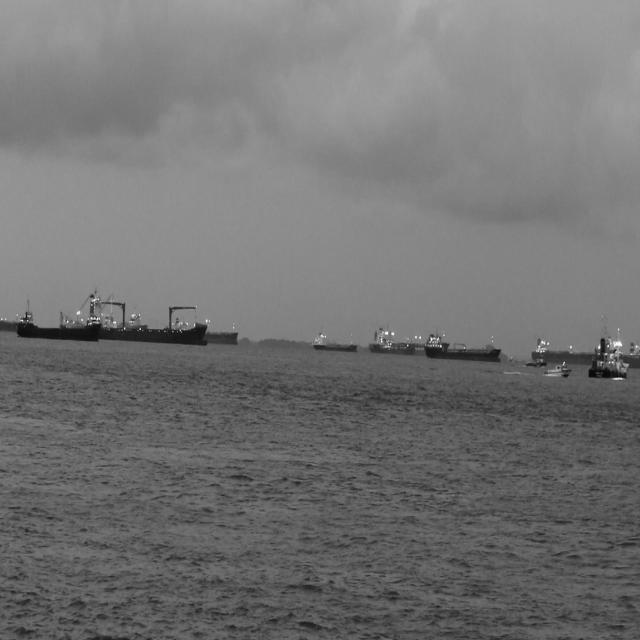ship: (58, 288, 210, 344), (17, 295, 101, 341), (588, 312, 628, 379), (367, 322, 449, 354), (423, 331, 501, 358), (532, 335, 600, 364), (312, 329, 357, 353), (204, 324, 240, 346), (621, 341, 640, 369), (544, 361, 574, 377), (0, 314, 18, 334), (524, 356, 548, 368), (508, 354, 519, 362)
